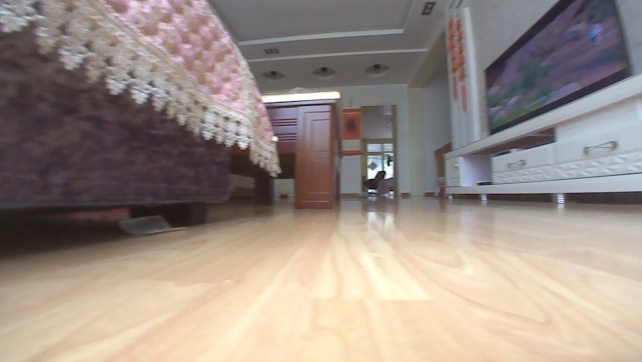TV_stand: (440, 73, 641, 207)
sofa1: (0, 0, 283, 228)
tea_table1: (254, 90, 345, 210)
